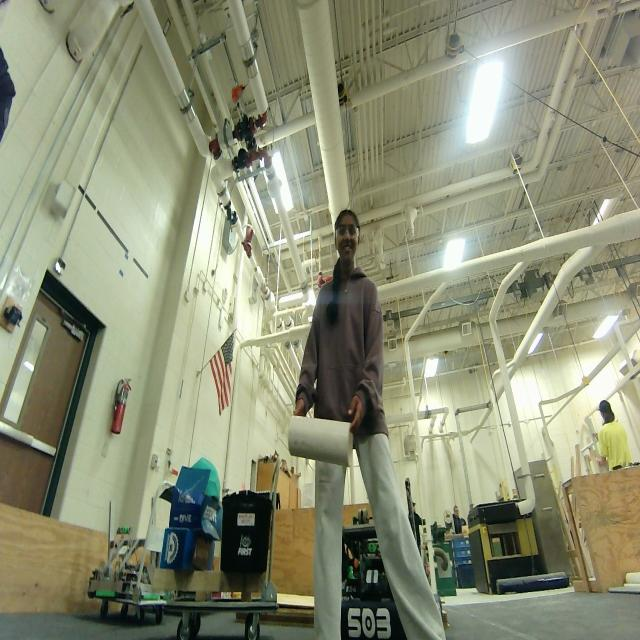coral: (282, 408, 358, 474)
